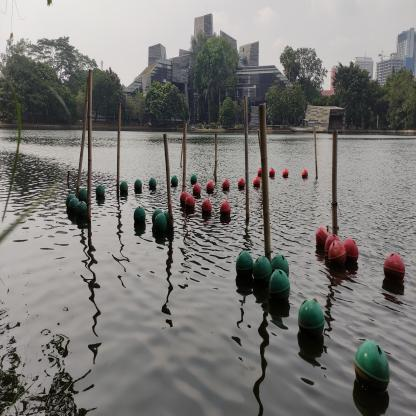green_buoy: (352, 338, 390, 401), (298, 298, 326, 344), (268, 270, 290, 306), (235, 250, 254, 280), (254, 254, 272, 284), (271, 252, 290, 280), (154, 213, 167, 236), (133, 204, 146, 226), (76, 201, 88, 220), (163, 208, 174, 227), (152, 208, 163, 226), (69, 198, 79, 216), (95, 183, 105, 200), (78, 186, 88, 203), (66, 192, 76, 209), (133, 178, 143, 192), (170, 174, 179, 189), (119, 179, 128, 193), (148, 178, 157, 190), (190, 172, 197, 185)
red_buoy: (383, 253, 406, 289), (328, 241, 346, 268), (342, 237, 358, 266), (325, 232, 340, 256), (316, 226, 330, 250), (184, 194, 196, 211), (219, 201, 230, 217), (202, 199, 212, 215), (180, 191, 188, 206), (205, 180, 214, 192), (253, 175, 261, 188), (222, 178, 230, 191), (193, 183, 201, 196), (301, 168, 309, 179), (269, 166, 276, 178), (238, 178, 245, 189), (282, 169, 289, 179), (257, 167, 262, 176)
